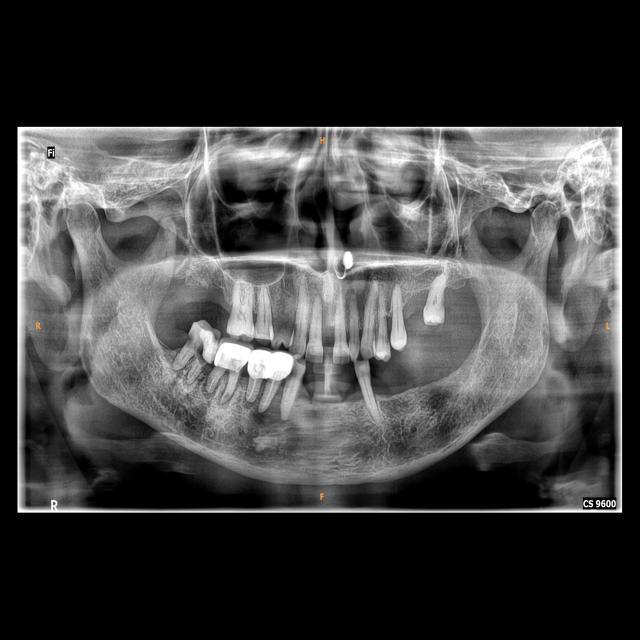dentin-curugu: (185, 332, 195, 346)
dolgu: (201, 328, 218, 361)
kanal-tedavisi: (266, 377, 276, 409), (249, 374, 258, 405)
kaplama: (213, 341, 250, 369), (268, 349, 293, 382), (246, 350, 272, 378)
